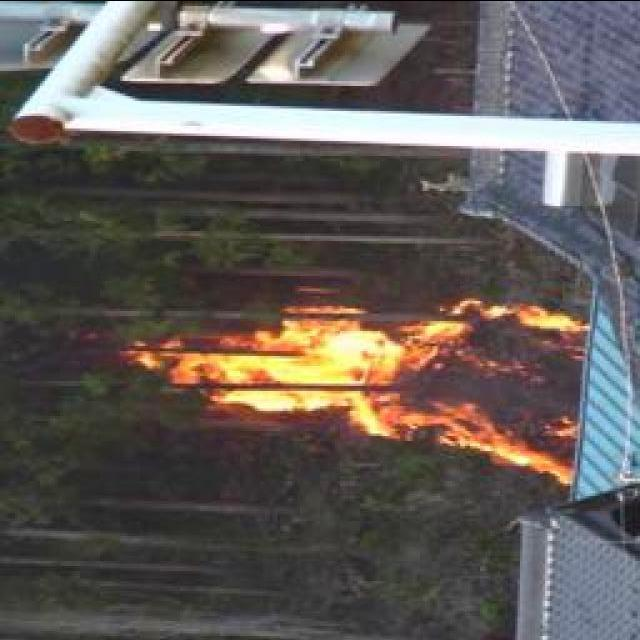Fire: (135, 296, 588, 474)
